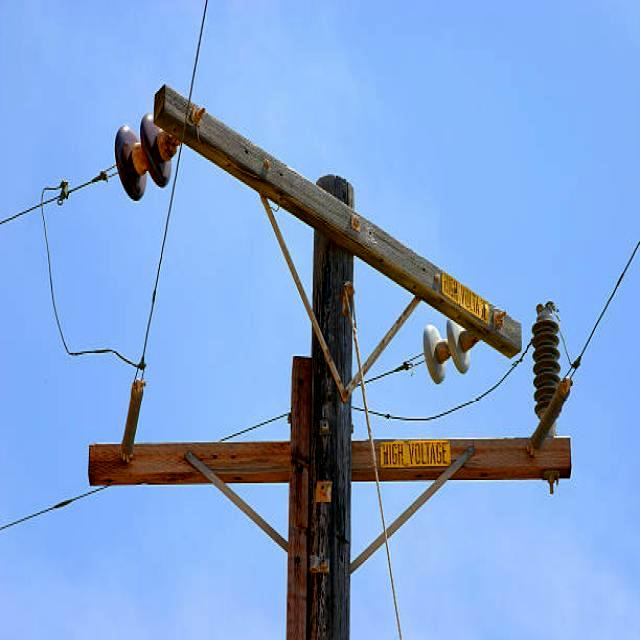Broken Pole: (83, 37, 573, 640)
